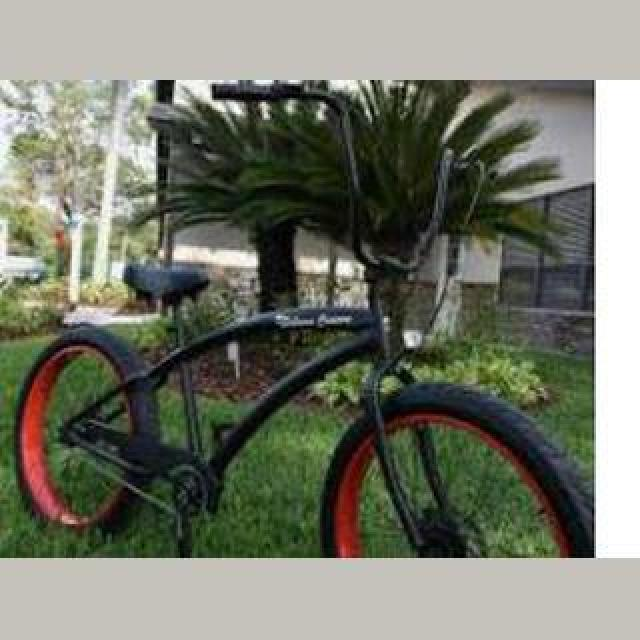Bus-Bike: (0, 254, 48, 284)
Person: (11, 234, 597, 556)
